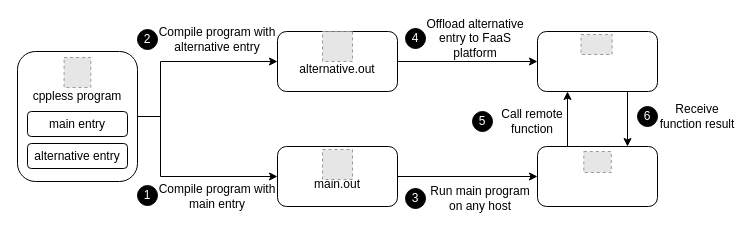
This 755x233 diagram has some shape labels left out. Grey dashed boxes stand in for pictures. Each missing label, with the box of its shape:
Host: (536, 146, 658, 206)
Serverless Environment: (536, 30, 658, 92)
